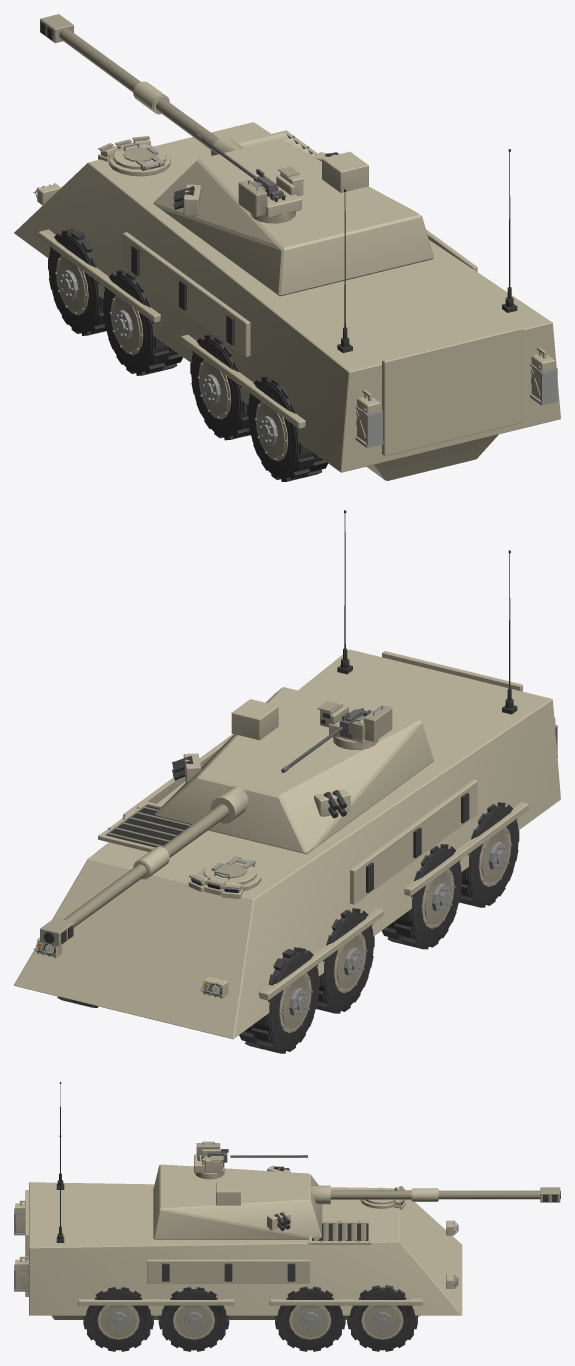
Rendered from usa_td_mgs.glb.
The picture shows the model from 3 angles, top to bottom: view 1: azimuth 30°, elevation 25°; view 2: azimuth 150°, elevation 25°; view 3: azimuth 270°, elevation 25°; orthographic projection. The views are drawn at different scales.
Visible parts, largest first — view 1: body, turret, wheel_2, wheel_6, wheel_0, wheel_4, barrel; view 2: body, turret, wheel_0, barrel, wheel_4, wheel_6, wheel_2; view 3: body, turret, wheel_1, wheel_3, wheel_5, wheel_7, barrel.
Part boxes in pixels (x1,y1,x2,y2): body: (14,122,560,480); turret: (153,133,433,296); wheel_2: (102,270,183,375); wheel_6: (247,376,327,481); wheel_0: (48,229,106,335); wheel_4: (190,335,250,440); barrel: (40,14,243,155); body: (14,510,560,1039); turret: (154,687,433,854); wheel_0: (239,947,319,1053); barrel: (40,785,247,946); wheel_4: (382,844,462,949); wheel_6: (459,802,519,907); wheel_2: (315,908,374,1013); body: (14,1082,462,1319); turret: (153,1141,322,1239); wheel_1: (347,1285,417,1351); wheel_3: (275,1286,345,1351); wheel_5: (158,1287,229,1351); wheel_7: (83,1287,153,1351); barrel: (309,1185,560,1204).
Bounding box in the file's own units: 2.88 × 3.65 × 8.71.
